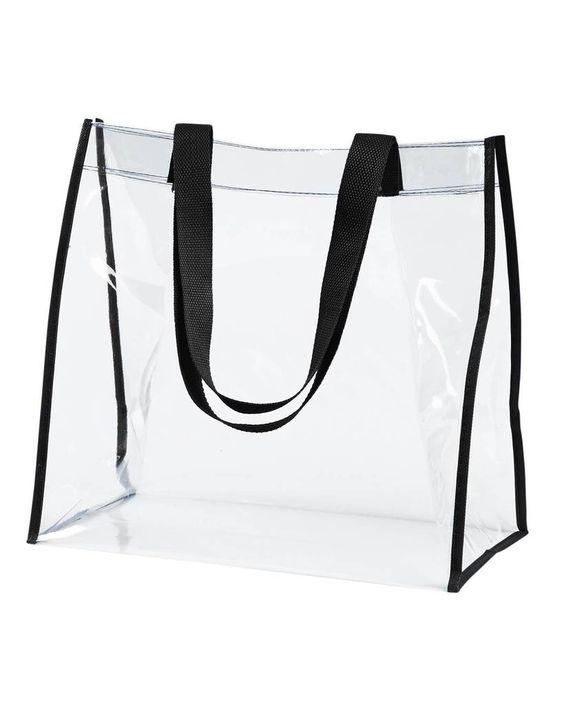PVC: (25, 116, 528, 596)
